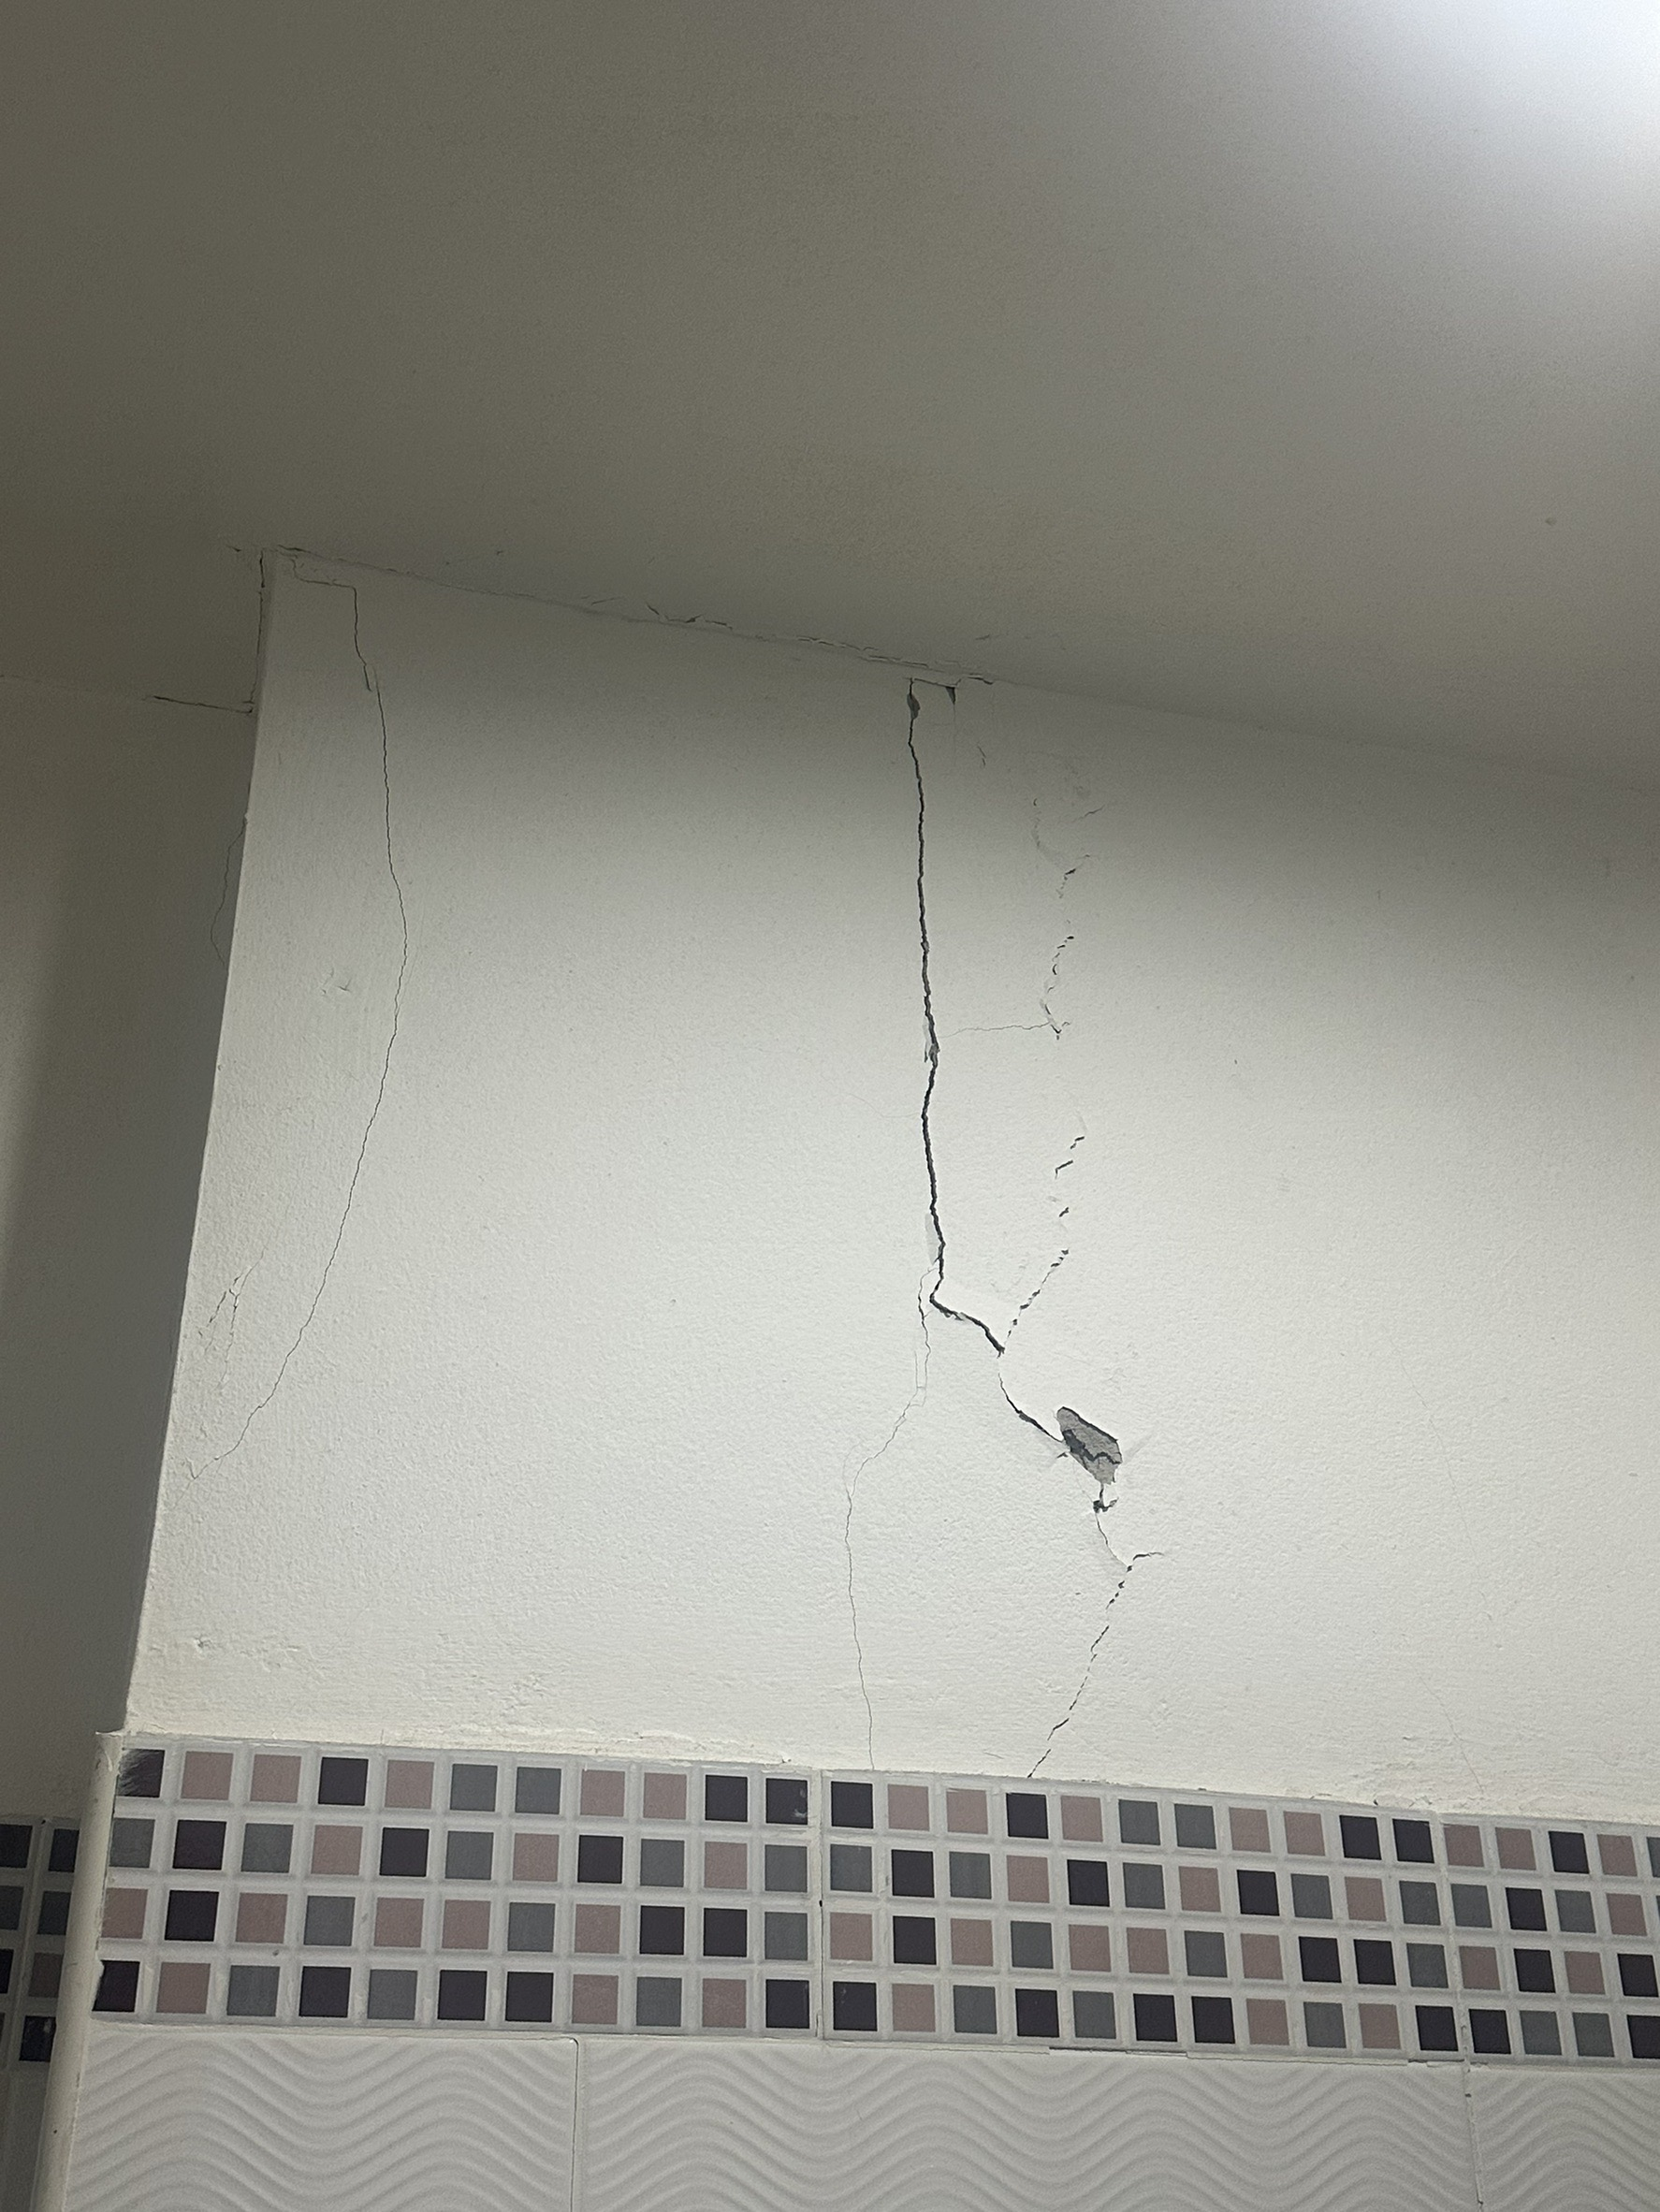Medium: (799, 697, 1282, 1529)
